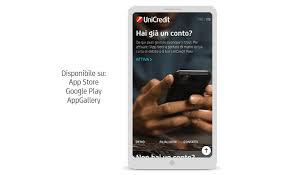Hand: (137, 77, 191, 141), (177, 87, 214, 139)
Smartphone: (132, 3, 216, 166), (166, 68, 209, 113)
